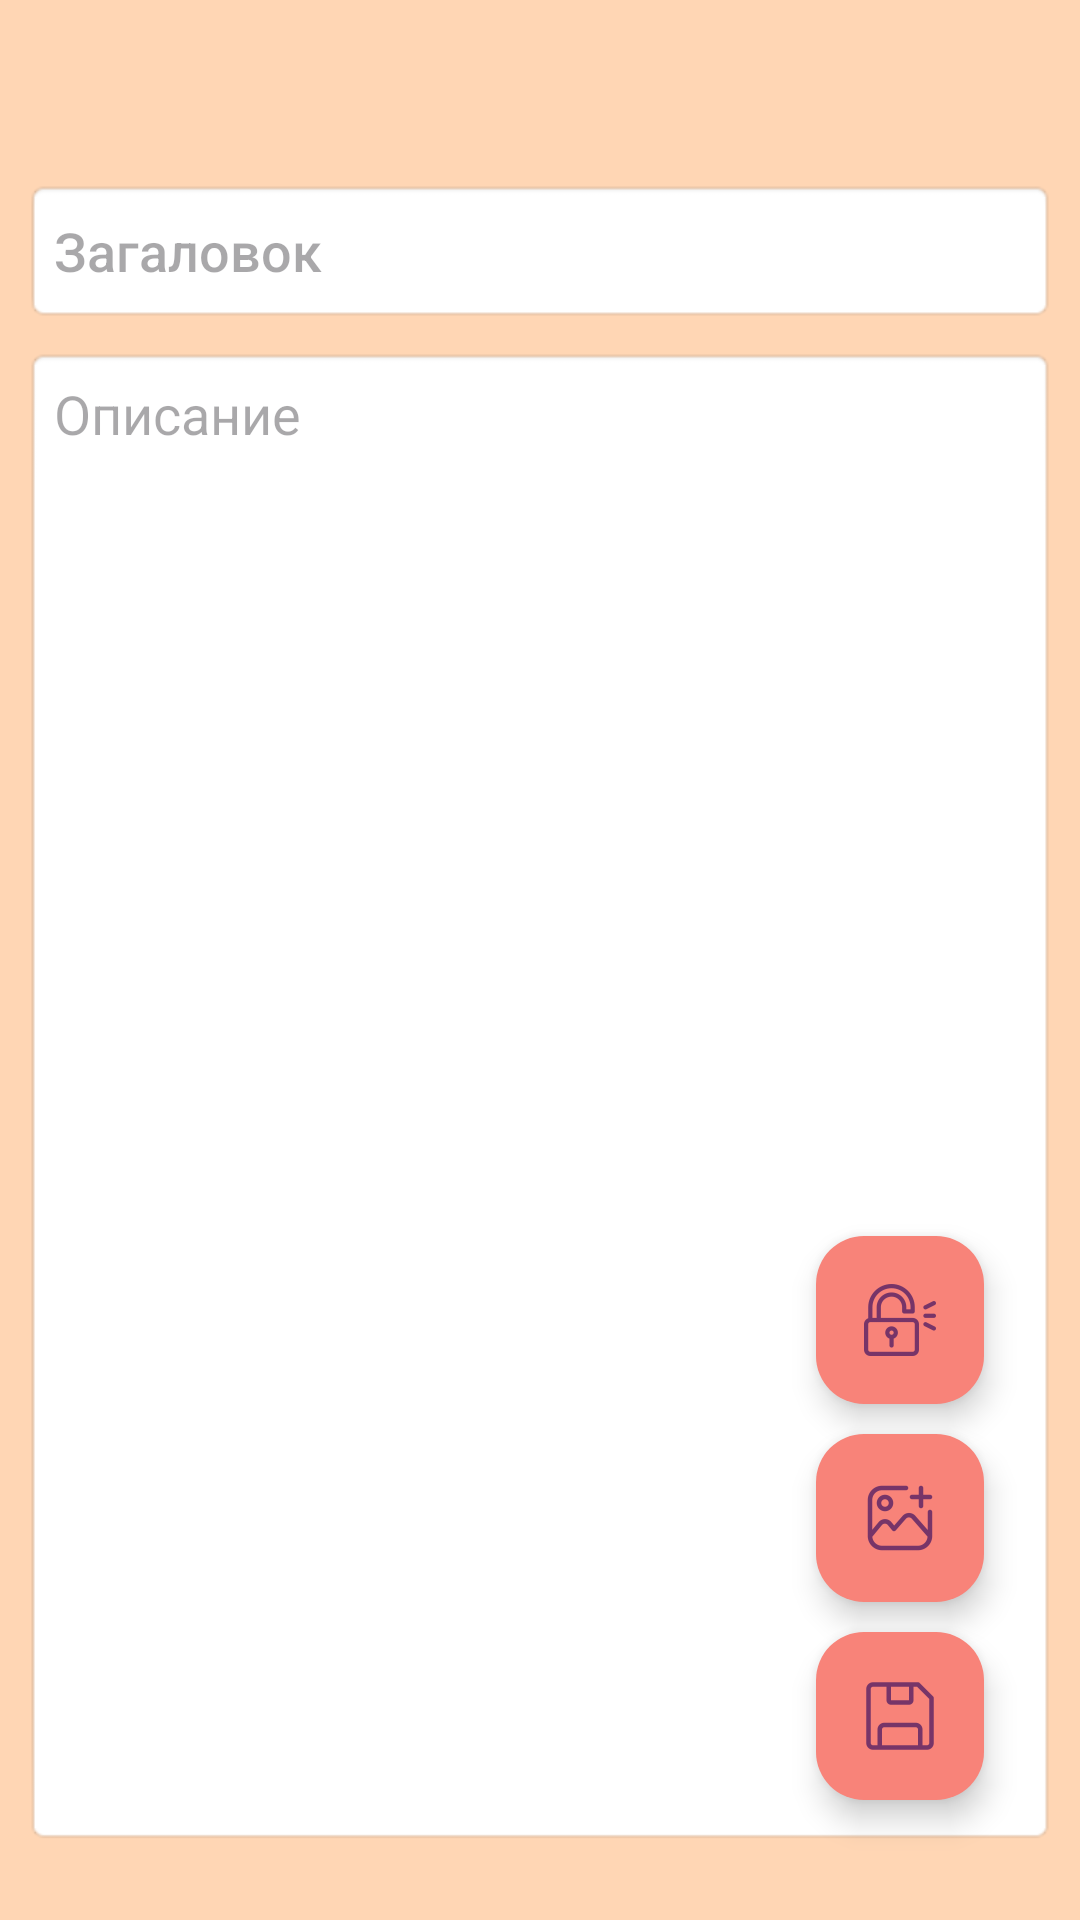

Named icons in this screenshot (1080×1920) and their centers, (x=x, y=y):
add: (x=900, y=1518)
